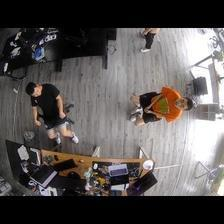normal: (24, 80, 78, 143), (125, 84, 194, 130)
